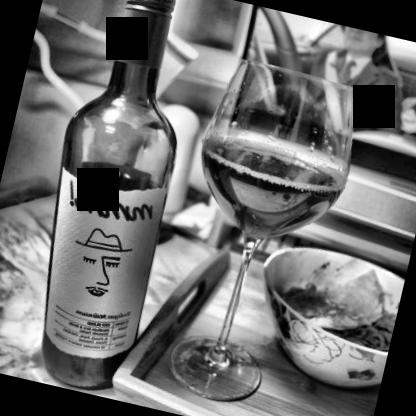umm: (23, 162, 165, 369)
